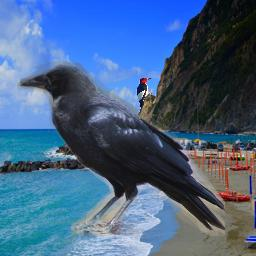Crow: (17, 61, 225, 236)
Woodpecker: (133, 75, 154, 115)
